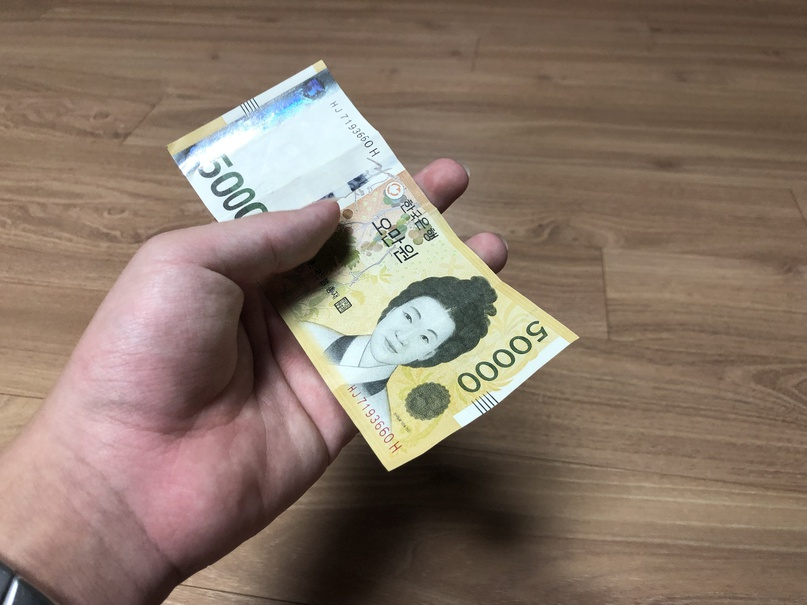50000won: (164, 60, 578, 470)
